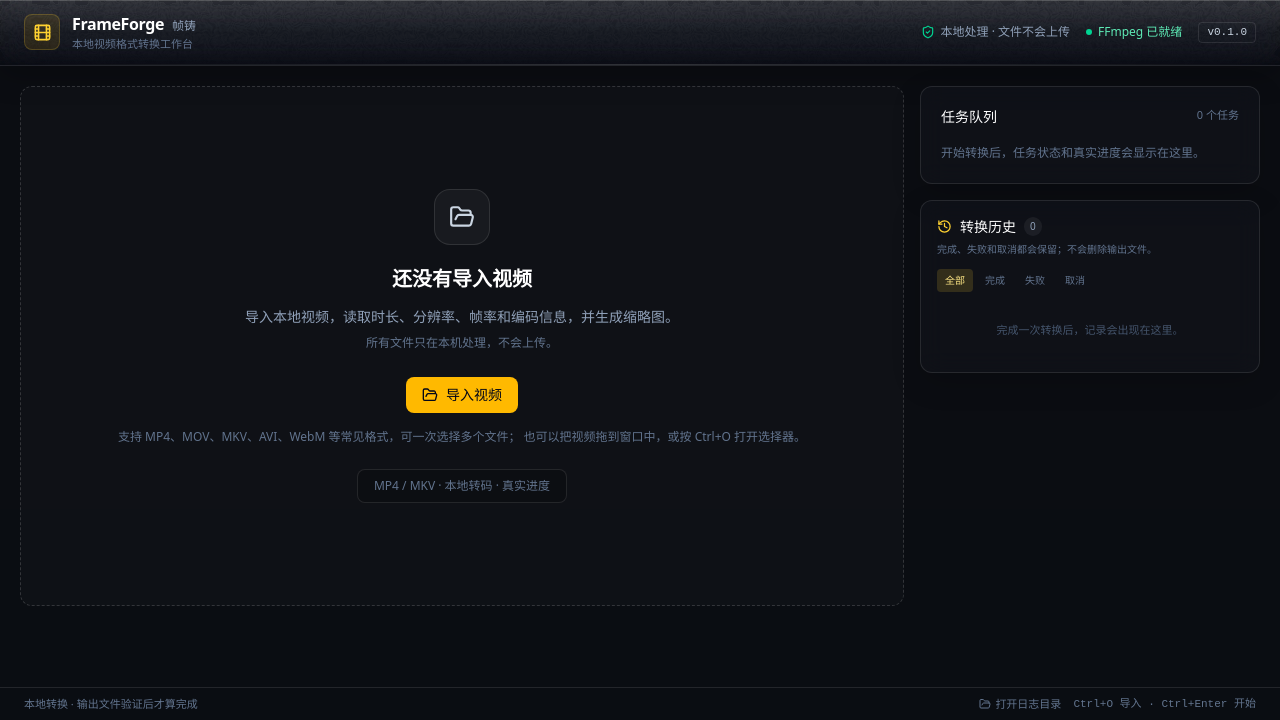
Scenario: 阶段 4 / 体验 UI › 失败任务可以复制错误并显示已复制反馈
The width and height of the screenshot is (1280, 720).
Expected: the text "FFmpeg 已就绪" is shown, x1=1086 y1=24 x2=1182 y2=40
Click the button "导入视频" at (462, 394), box x1=406 y1=376 x2=518 y2=412
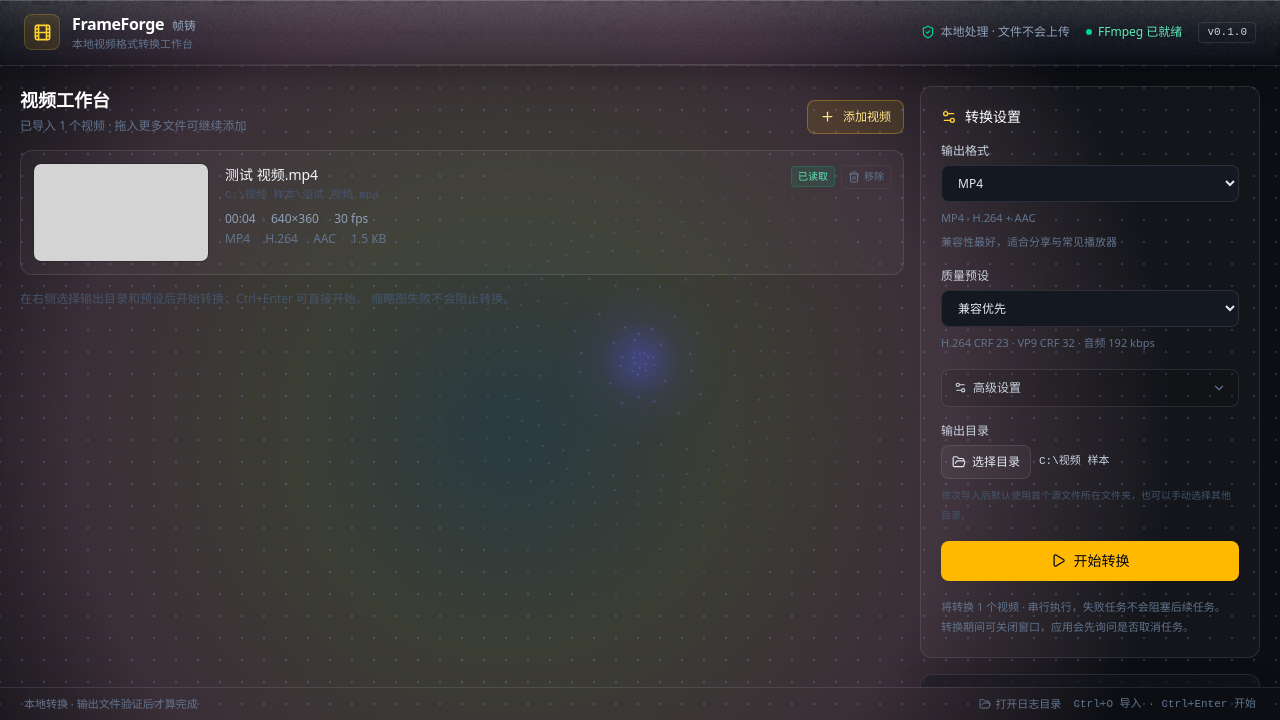
Now the heading "测试 视频.mp4" is shown, box x1=225 y1=164 x2=318 y2=184
Click the button "选择目录" at (986, 462), box x1=941 y1=444 x2=1031 y2=478
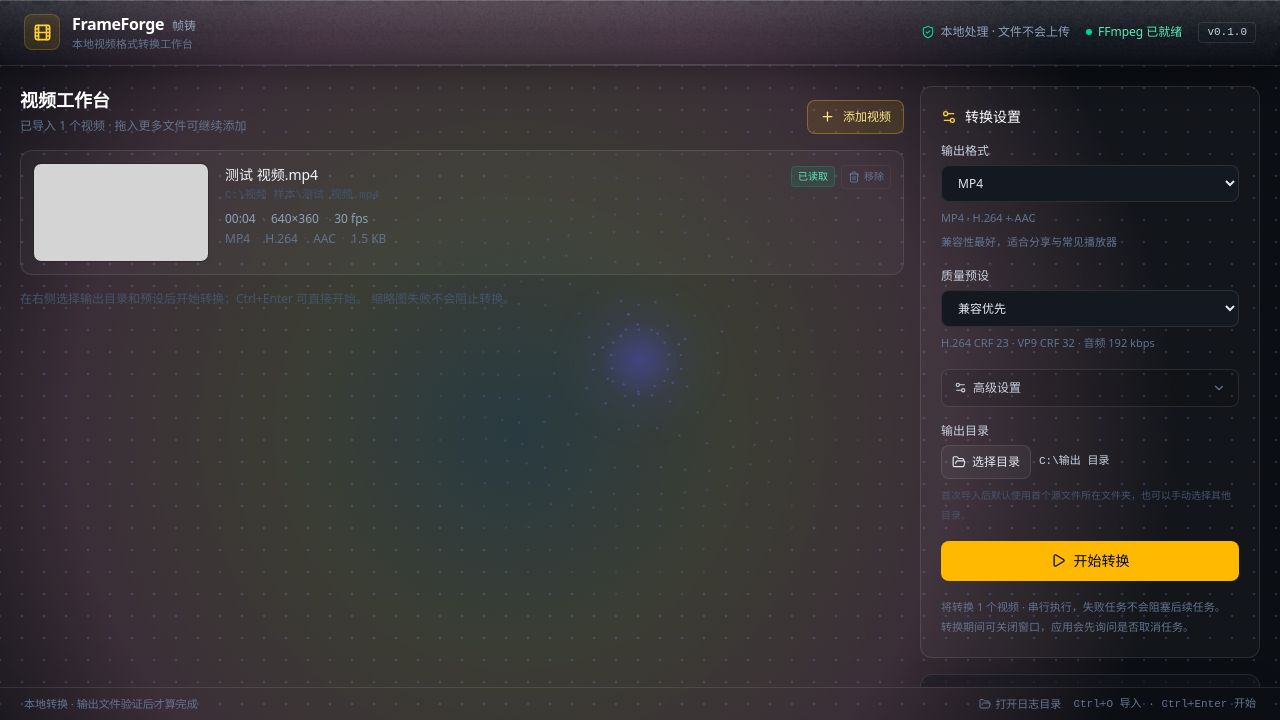
Now the text "C:\\输出 目录" is shown, box x1=1039 y1=455 x2=1109 y2=467
Click the button "开始转换" at (1090, 560), box x1=941 y1=540 x2=1239 y2=580
(page scrolled)
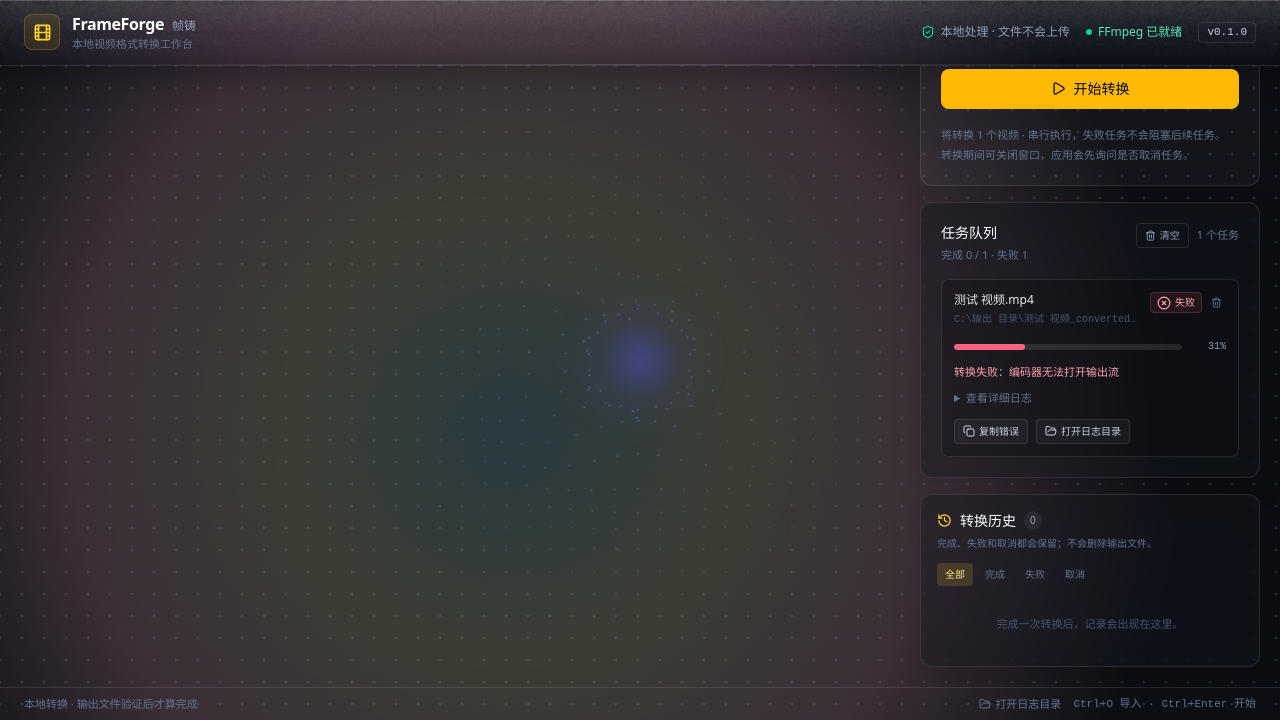
Now the text "失败" is shown, box x1=1150 y1=292 x2=1202 y2=313
Click the button "复制错误" at (991, 431), box x1=954 y1=418 x2=1028 y2=444
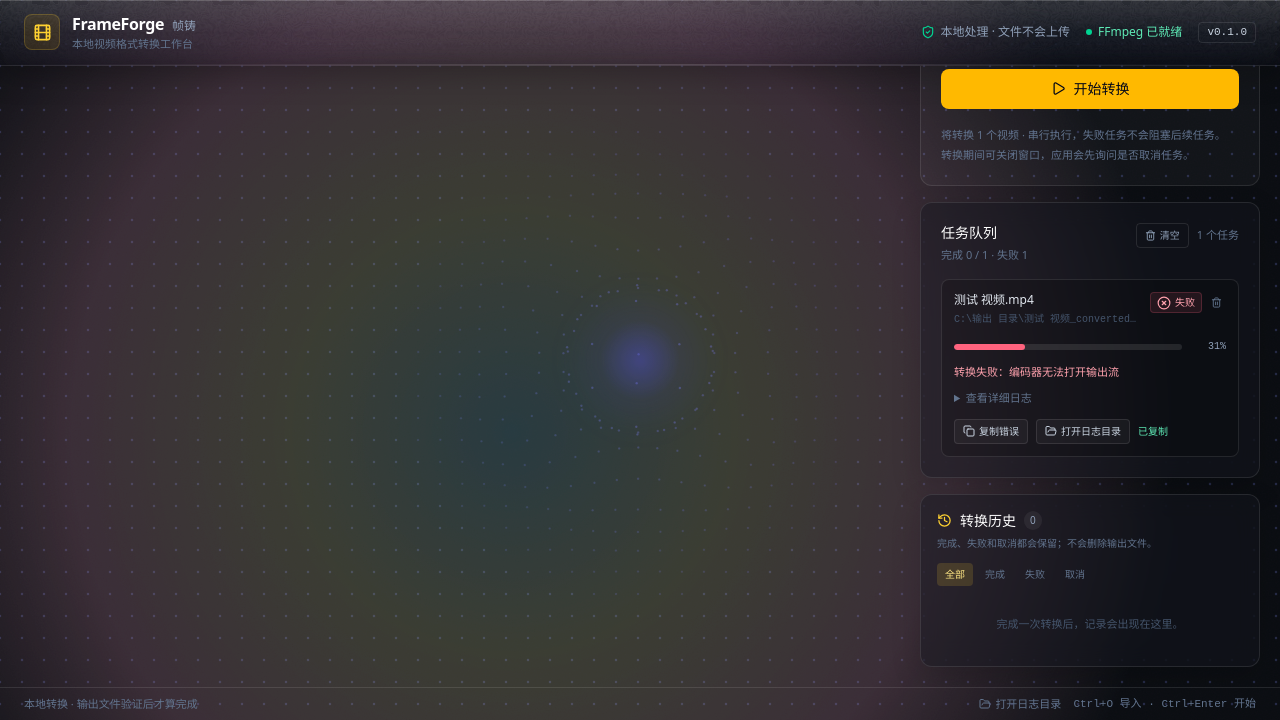
Now the text "已复制" is shown, box x1=1138 y1=424 x2=1168 y2=438
